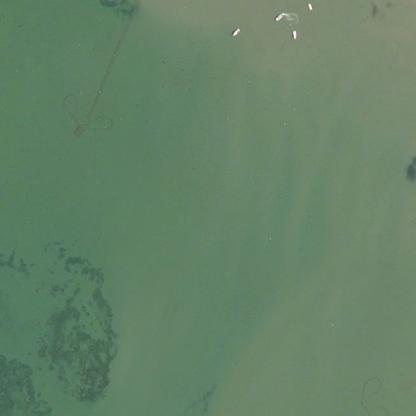ship: (224, 23, 245, 40), (270, 8, 288, 24), (286, 25, 301, 42), (305, 1, 316, 13)
